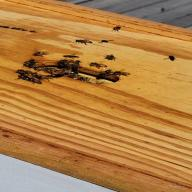Bee: (14, 65, 118, 90), (26, 46, 53, 58), (76, 37, 92, 47)
